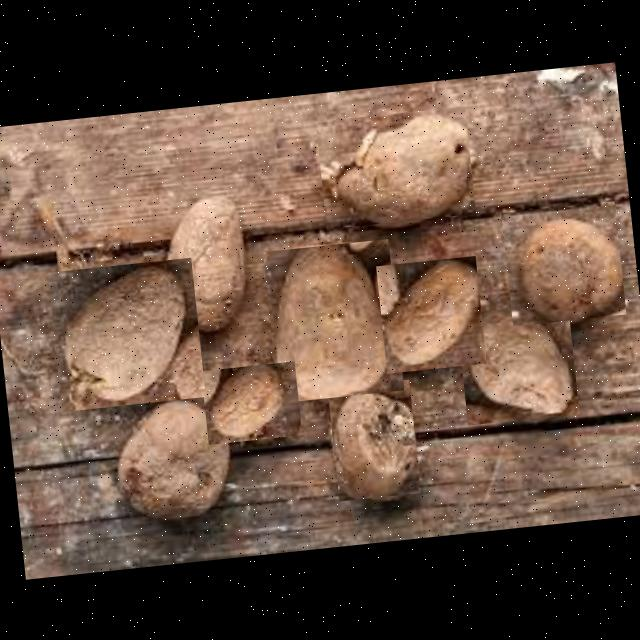Damaged potato: (48, 258, 206, 412), (262, 238, 403, 402), (316, 106, 476, 229), (114, 391, 238, 519), (501, 200, 626, 326), (456, 302, 579, 425), (154, 192, 256, 329), (376, 255, 486, 374), (328, 379, 420, 501), (201, 361, 302, 444)
